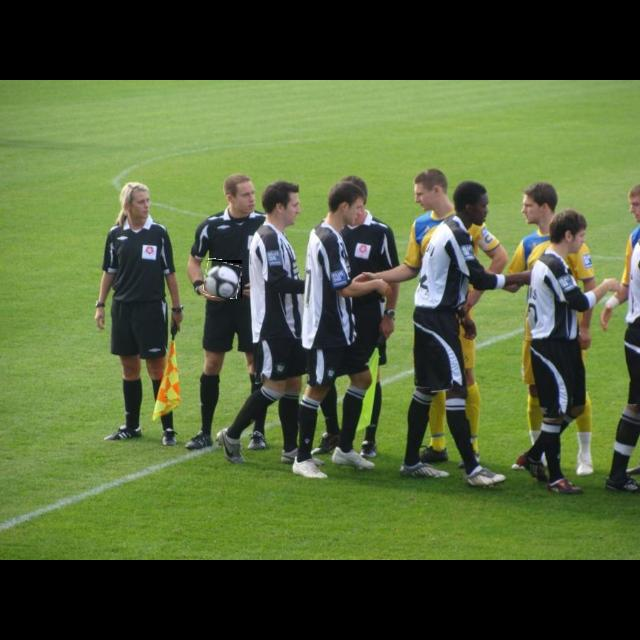Football: (204, 260, 242, 298)
